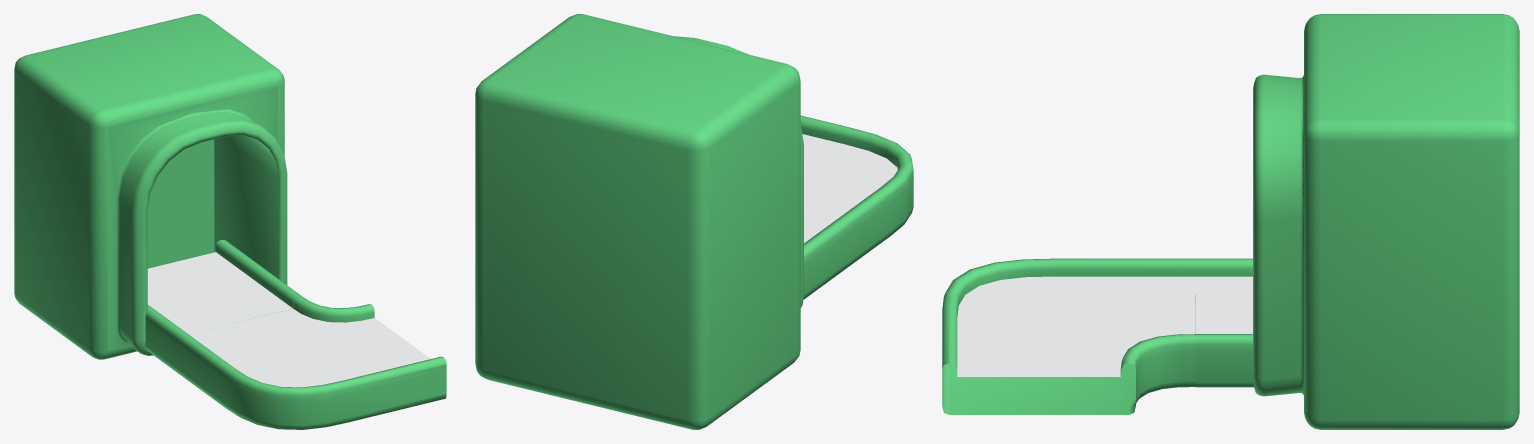
The model's file is ProductBelt-Green.fbx.
3 renders of one model, left to right at view 1: azimuth 30°, elevation 25°; view 2: azimuth 150°, elevation 25°; view 3: azimuth 270°, elevation 25°, orthographic. The views are drawn at different scales.
Visible parts, largest first — view 1: ProductBelt-Green, L-path, I-path; view 2: ProductBelt-Green, L-path, I-path; view 3: ProductBelt-Green, L-path, I-path.
Boxes of the visible parts, x1,y1,x2,y2 form: ProductBelt-Green: (14, 14, 287, 359); L-path: (169, 296, 446, 429); I-path: (145, 240, 301, 366); ProductBelt-Green: (475, 14, 803, 429); L-path: (800, 115, 913, 285); I-path: (803, 236, 823, 299); ProductBelt-Green: (1253, 14, 1519, 429); L-path: (942, 258, 1195, 414); I-path: (1195, 258, 1254, 387).
Bounding box in the file's own units: 137 × 158 × 268.
